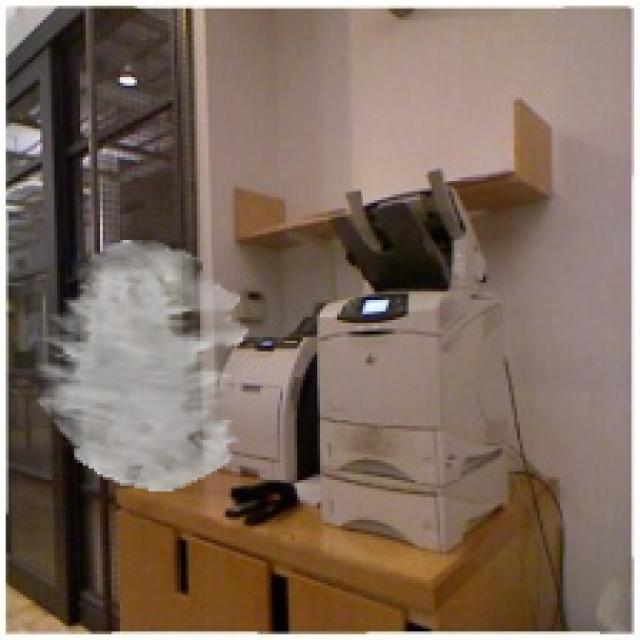smoke: (34, 240, 249, 491)
